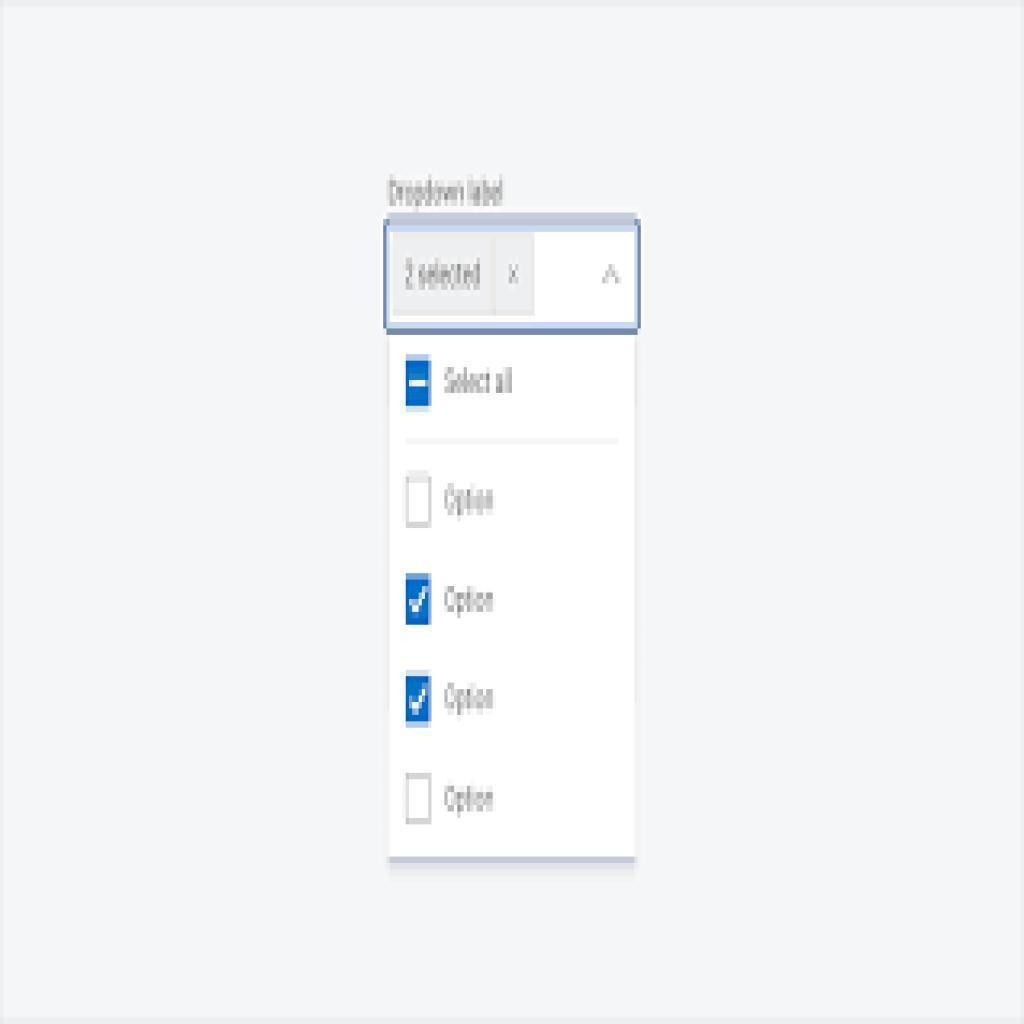checkbox: (405, 668, 433, 728), (404, 472, 433, 528), (405, 355, 433, 412), (404, 572, 434, 625), (404, 773, 431, 824)
dropdown: (383, 213, 640, 336)
label: (441, 360, 518, 401), (440, 677, 500, 722), (441, 480, 500, 523), (440, 580, 502, 620), (439, 783, 497, 821)
